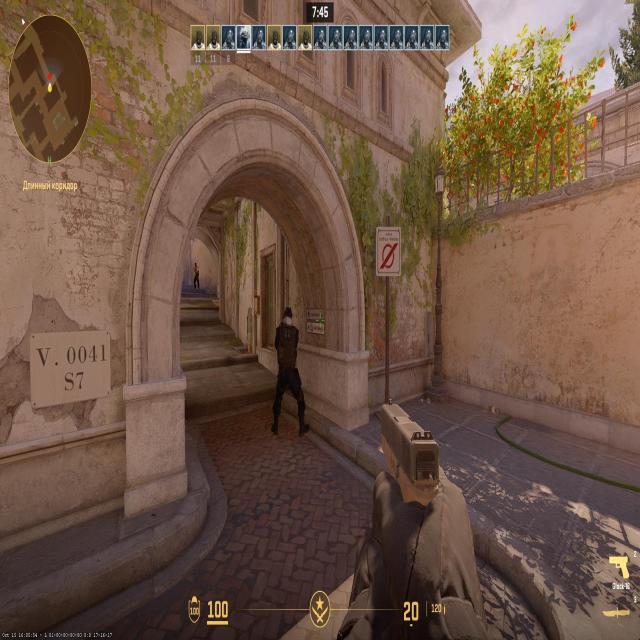CT: (278, 308, 304, 434)
CT_heat: (286, 310, 292, 322)
T: (194, 263, 199, 288)
T_heat: (195, 264, 196, 266)
